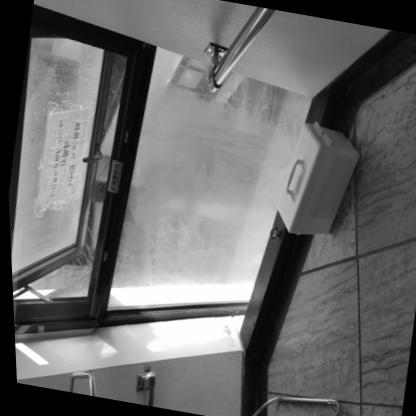DDL: (266, 121, 364, 242)
